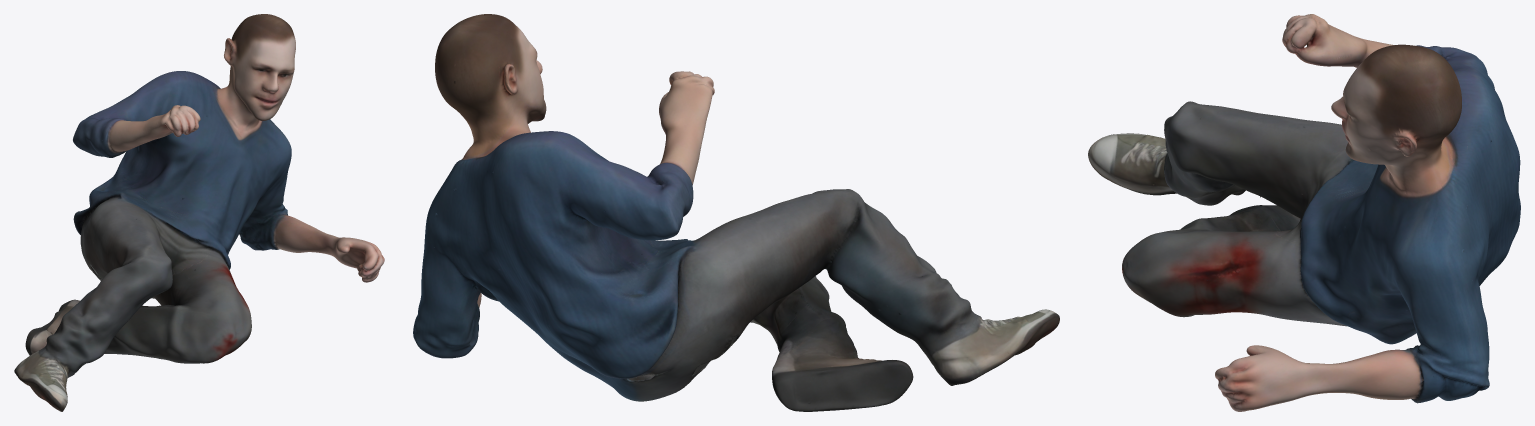
File: Patient_Hemorrhage.glb
3 renders of one model, left to right at view 1: azimuth 30°, elevation 25°; view 2: azimuth 150°, elevation 25°; view 3: azimuth 270°, elevation 25°, orthographic. The views are drawn at different scales.
Bounding box in the file's own units: 2 × 1.26 × 1.37.
1 material, 1 textured.
